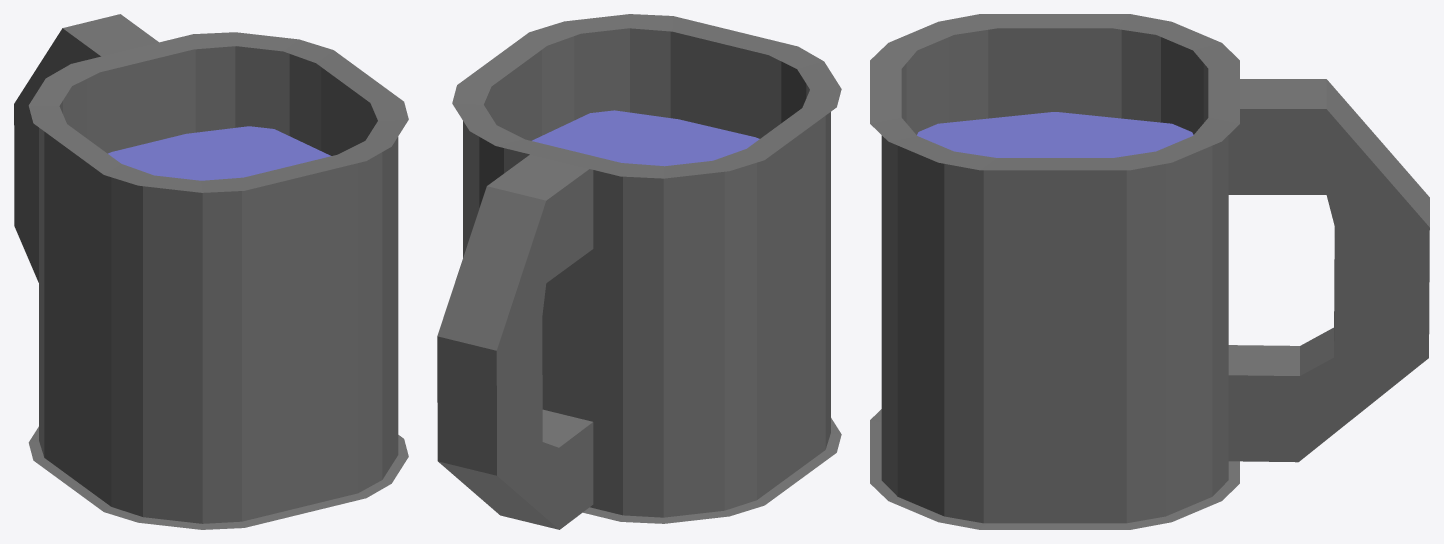
File: MugPrefab4.fbx
The picture shows the model from 3 angles, left to right: view 1: azimuth 30°, elevation 25°; view 2: azimuth 150°, elevation 25°; view 3: azimuth 270°, elevation 25°; orthographic projection. The views are drawn at different scales.
Parts seen in each view (by area): view 1: Cube.001, Plane; view 2: Cube.001, Plane; view 3: Cube.001, Plane.
Boxes of the visible parts, left/top/right/bottom form: Cube.001: left=14, top=14, right=408, bottom=529; Plane: left=108, top=126, right=331, bottom=180; Cube.001: left=437, top=14, right=841, bottom=529; Plane: left=532, top=110, right=759, bottom=166; Cube.001: left=870, top=14, right=1429, bottom=529; Plane: left=917, top=112, right=1193, bottom=157.
Size of the model in its own units: 225 by 244 by 340.
